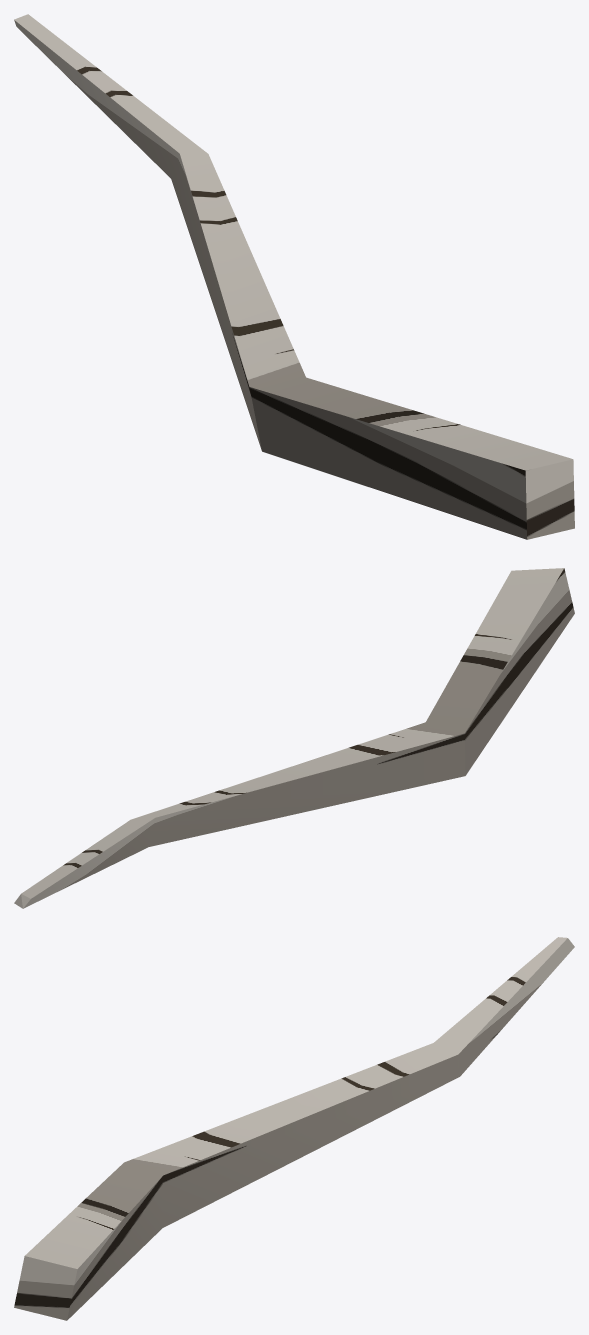
Rendered from synty-tree-twig-04.gltf.
3 views of the same model, one above another, from view 1: azimuth 30°, elevation 25°; view 2: azimuth 150°, elevation 25°; view 3: azimuth 330°, elevation 25° (orthographic). The views are drawn at different scales.
Visible parts, largest first — view 1: SM_Tree_Twig_04; view 2: SM_Tree_Twig_04; view 3: SM_Tree_Twig_04.
Boxes of the visible parts, left/top/right/bottom form: SM_Tree_Twig_04: left=14, top=14, right=574, bottom=539; SM_Tree_Twig_04: left=14, top=568, right=574, bottom=908; SM_Tree_Twig_04: left=14, top=937, right=574, bottom=1320.
Size of the model in its own units: 0.0996 by 0.0533 by 0.5424.
1 material, 1 textured.
